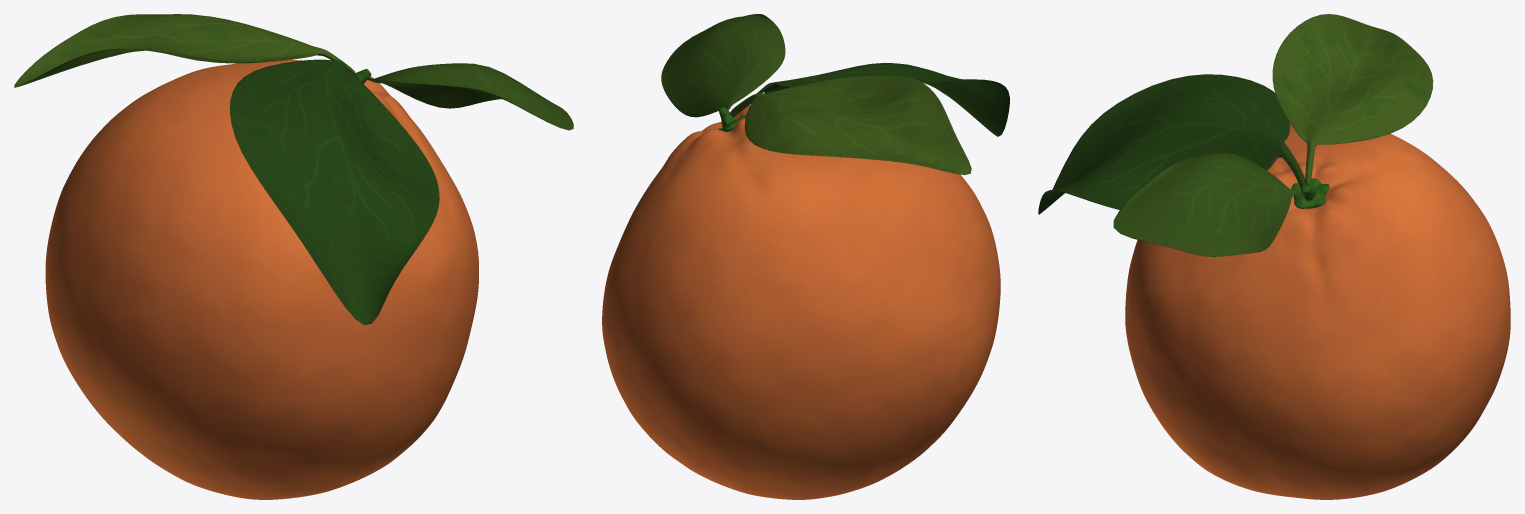
The model's file is tangerine-2.glb.
The picture shows the model from 3 angles, left to right: view 1: azimuth 30°, elevation 25°; view 2: azimuth 150°, elevation 25°; view 3: azimuth 270°, elevation 25°; orthographic projection. The views are drawn at different scales.
Visible parts, largest first — view 1: Object_4, Object_12, Object_10, Object_8; view 2: Object_4, Object_10, Object_8, Object_12; view 3: Object_4, Object_12, Object_10, Object_8, Object_6.
Boxes of the visible parts, box(x1,y1,x2,y2) form: Object_4: box(45, 59, 478, 499); Object_12: box(230, 59, 439, 325); Object_10: box(14, 14, 355, 87); Object_8: box(366, 63, 573, 130); Object_4: box(602, 105, 1000, 499); Object_10: box(730, 75, 971, 175); Object_8: box(661, 14, 785, 117); Object_12: box(731, 63, 1009, 136); Object_4: box(1125, 123, 1510, 499); Object_12: box(1038, 74, 1309, 214); Object_10: box(1272, 14, 1433, 185); Object_8: box(1113, 152, 1302, 256); Object_6: box(1291, 178, 1329, 208).
Bounding box in the file's own units: 0.1589 × 0.162 × 0.1714.
Materials: 5 (5 with a texture image).
